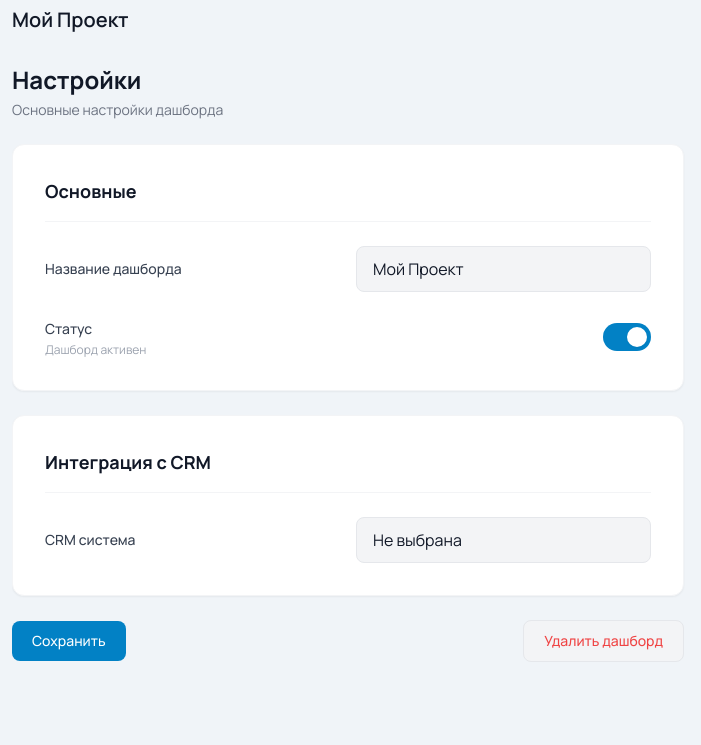
Test: Settings › shows webhook URL when CRM provider is selected
Select "AmoCRM" in the dropdown showing "Не выбрана". click: [504, 540]
box: [356,517,651,563]
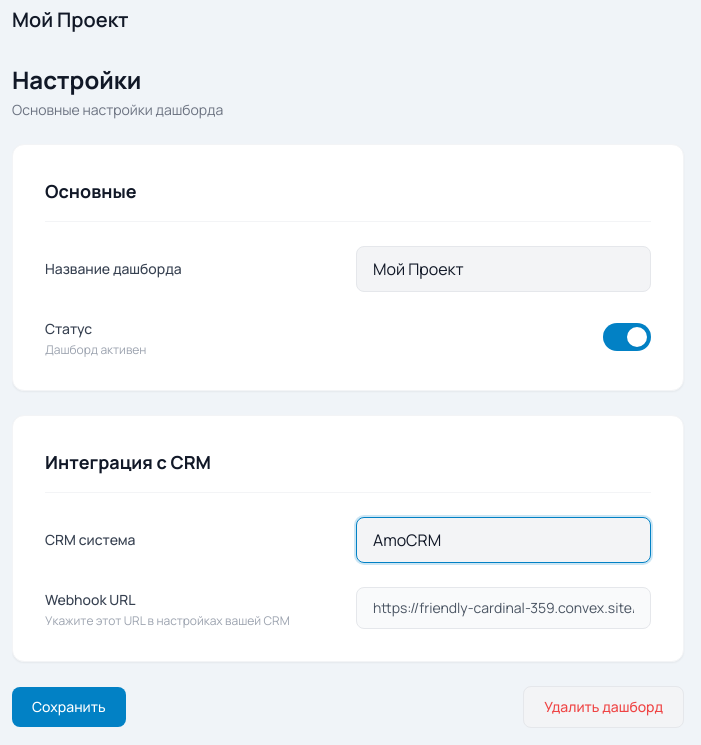
Result: the text "Webhook URL" is shown at [45,590,136,609]
Result: the field showing "amocrm/project123" next to "Укажите этот URL в настройках вашей CRM" is shown at [356,587,651,629]
